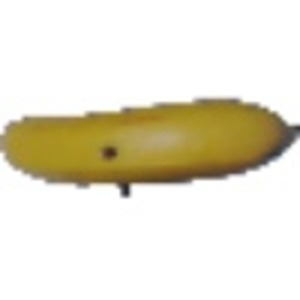banana: (3, 95, 297, 187)
